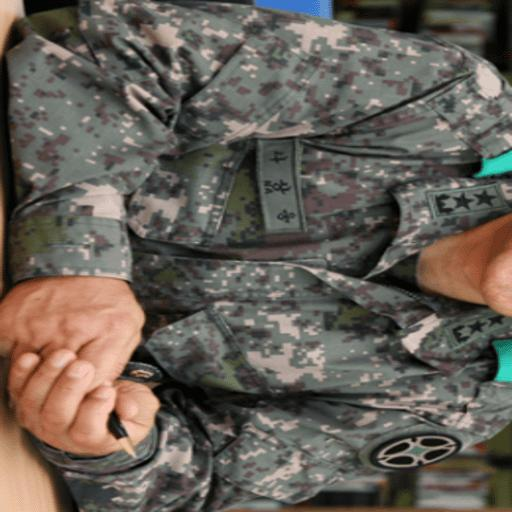korea army: (0, 0, 507, 506)
